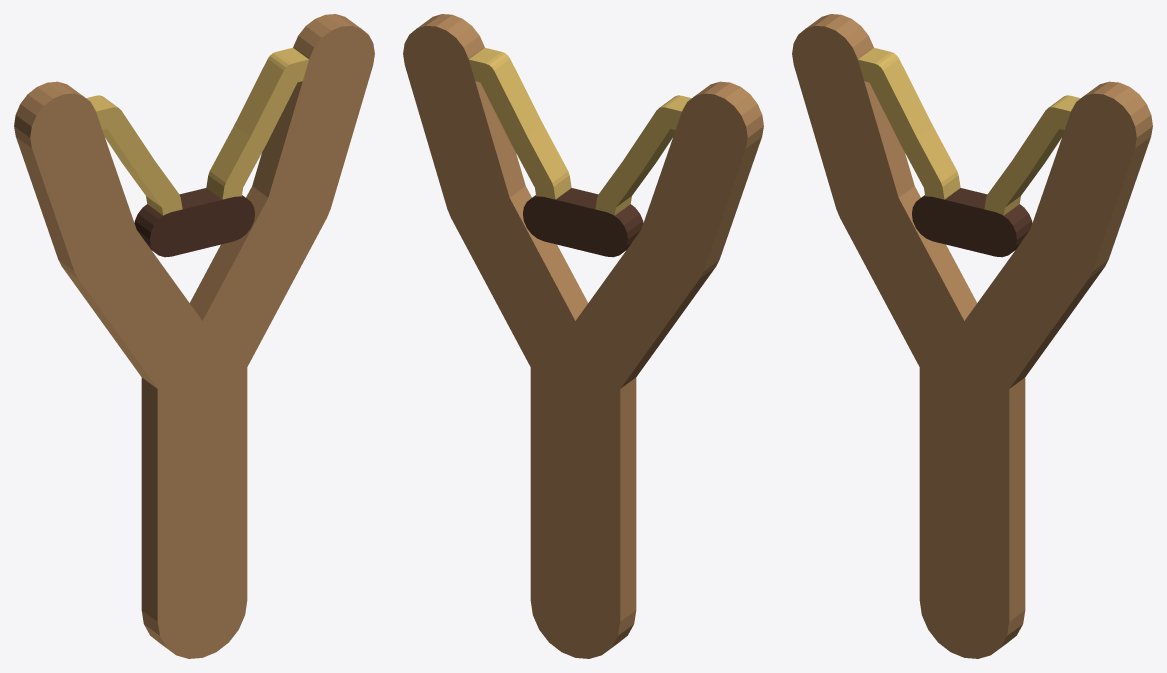
The model's file is NEW_RECOVERY_049_LOD1.glb.
The picture shows the model from 3 angles, left to right: view 1: azimuth 30°, elevation 25°; view 2: azimuth 150°, elevation 25°; view 3: azimuth 330°, elevation 25°; orthographic projection.
Parts seen in each view (by area): view 1: Slingshot; view 2: Slingshot; view 3: Slingshot.
Boxes of the visible parts, x1=… form: Slingshot: x1=14, y1=14, x2=374, y2=658; Slingshot: x1=403, y1=14, x2=763, y2=658; Slingshot: x1=792, y1=14, x2=1152, y2=658.
Bounding box in the file's own units: 1.54 × 2.55 × 0.125.
